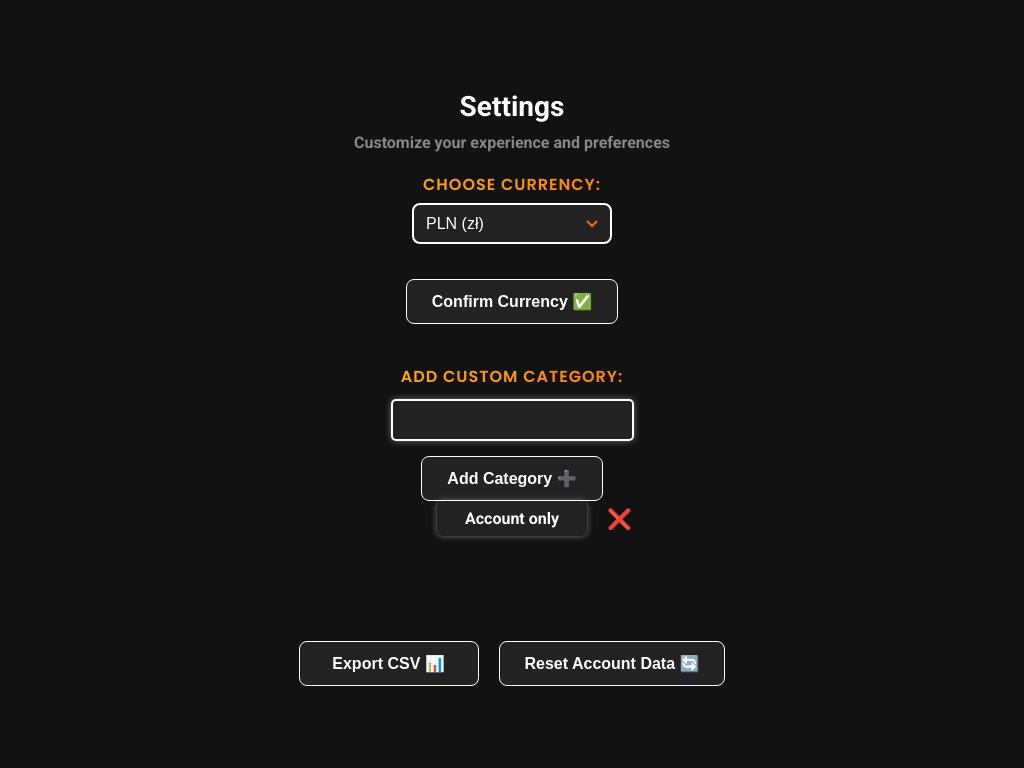
Test: successful account reset preserves guest transactions and closes the dialog
Check: the button "Add Category ➕" is enabled, box [421,456,603,501]
Click the button "Reset Account Data 🔄": {"x": 612, "y": 664} [498,641,726,686]
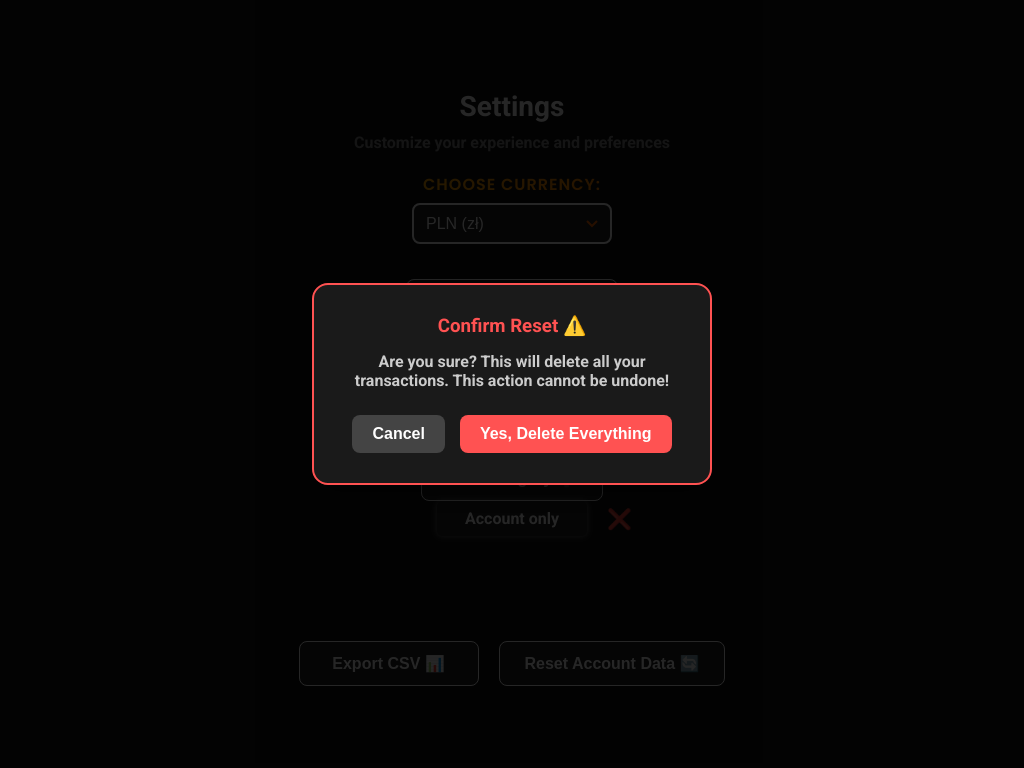
Click the button "Yes, Delete Everything": {"x": 566, "y": 434} [460,415,672,453]
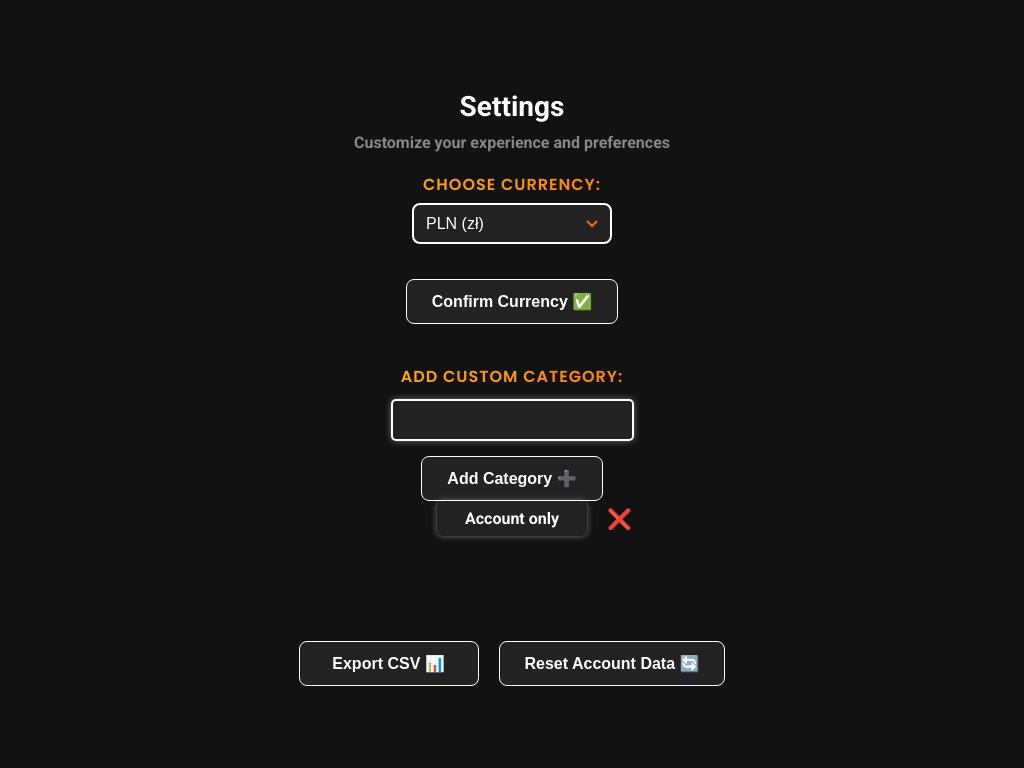
Check: the heading "Confirm Reset ⚠️" is gone
